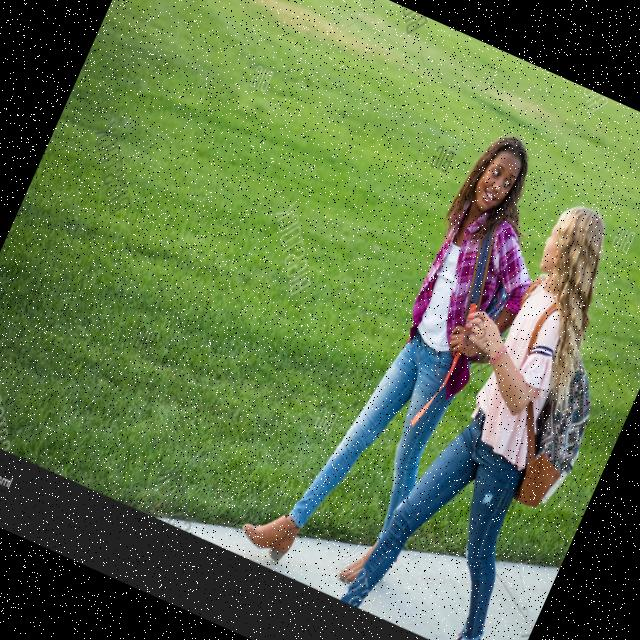Person: (235, 99, 588, 611), (343, 180, 640, 640)
